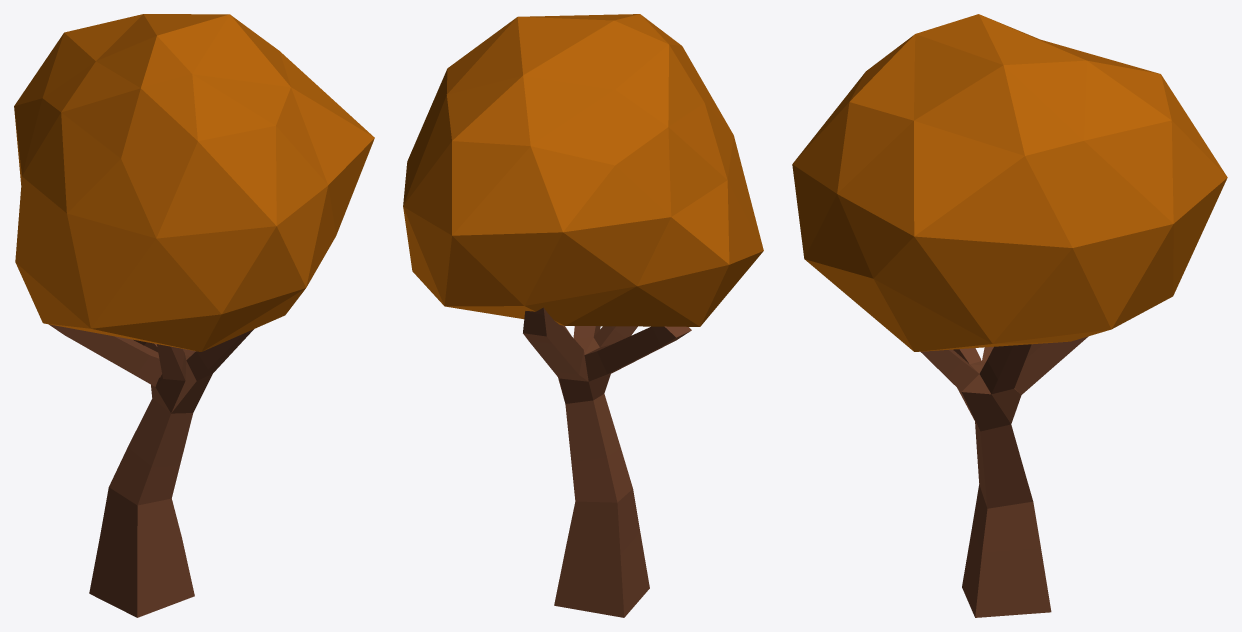
Rendered from OrangeTree1.fbx.
The picture shows the model from 3 angles, left to right: view 1: azimuth 30°, elevation 25°; view 2: azimuth 150°, elevation 25°; view 3: azimuth 270°, elevation 25°; orthographic projection. The views are drawn at different scales.
Visible parts, largest first — view 1: LemonTree2.002; view 2: LemonTree2.002; view 3: LemonTree2.002.
Part boxes in pixels (x1,y1,x2,y2): LemonTree2.002: [14, 14, 374, 617]; LemonTree2.002: [403, 14, 763, 617]; LemonTree2.002: [792, 14, 1227, 617].
Size of the model in its own units: 248 by 428 by 287.
